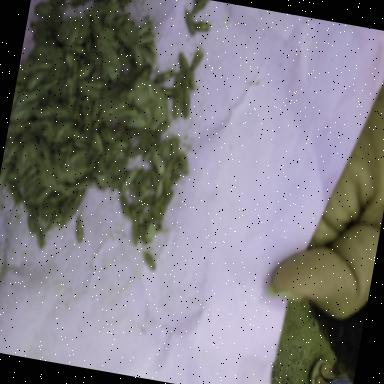pbw: (25, 68, 48, 94), (3, 180, 24, 206), (120, 168, 139, 196), (126, 208, 144, 237), (132, 194, 154, 217), (150, 150, 168, 177), (103, 0, 121, 27), (132, 20, 154, 42), (179, 89, 194, 121), (142, 218, 158, 247), (110, 168, 128, 192), (181, 11, 198, 36), (4, 140, 20, 166), (131, 44, 146, 71), (33, 225, 49, 250), (138, 44, 156, 66), (154, 69, 175, 87), (21, 164, 38, 186), (46, 212, 63, 234), (36, 186, 52, 208), (156, 118, 172, 140), (112, 158, 128, 179), (154, 177, 166, 205), (176, 50, 191, 72), (74, 217, 86, 244), (177, 153, 191, 176), (136, 186, 152, 206), (142, 252, 158, 272), (118, 198, 134, 218), (99, 128, 118, 144), (91, 134, 106, 154), (170, 97, 183, 120), (26, 216, 40, 237), (162, 158, 174, 182), (190, 50, 204, 70), (0, 164, 11, 189), (78, 62, 92, 80), (138, 32, 156, 46), (169, 138, 180, 158), (69, 0, 91, 10), (186, 74, 198, 92), (148, 170, 160, 188), (155, 194, 166, 210), (114, 139, 130, 150), (194, 22, 210, 32), (64, 53, 74, 66), (142, 151, 152, 163)
